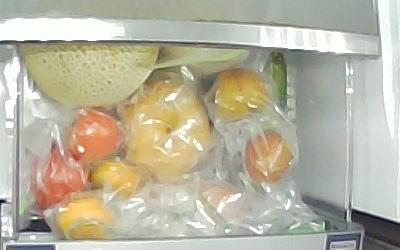melon: (16, 42, 159, 106)
pear_vinyl: (118, 77, 211, 179)
prune_vinyl: (63, 107, 120, 165), (210, 66, 269, 122), (243, 127, 293, 183)
tangerine_vinyl: (54, 193, 114, 238), (90, 157, 142, 197)
tomato_vinyl: (30, 142, 88, 210)
zucchini: (263, 51, 287, 111)
